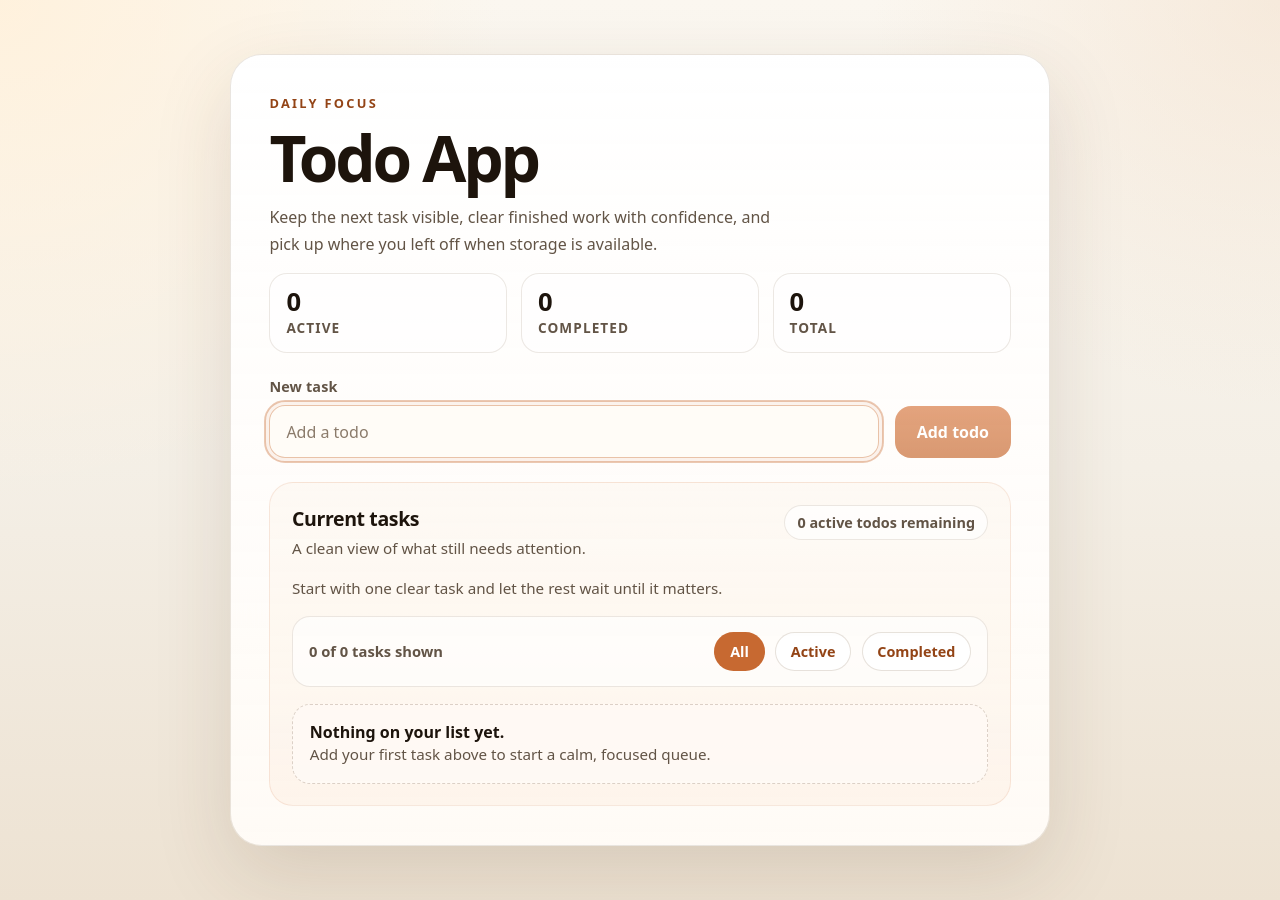
HomePage › keeps the composer focused after keyboard submission
Type "Buy milk" into the field labelled "New task" at (574,432), box [269,405,879,458]
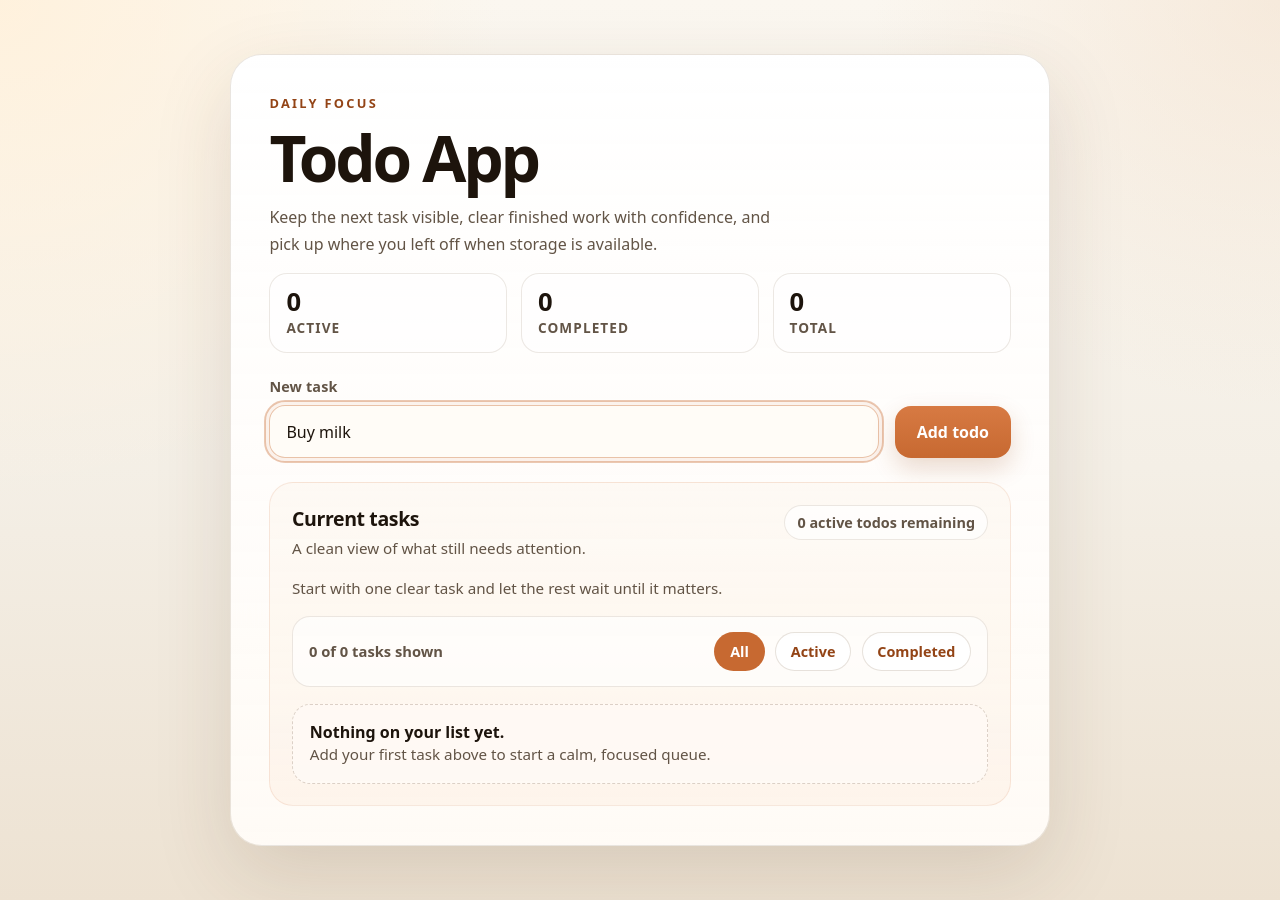
Submit the form "New task", box [269,377,1011,458]
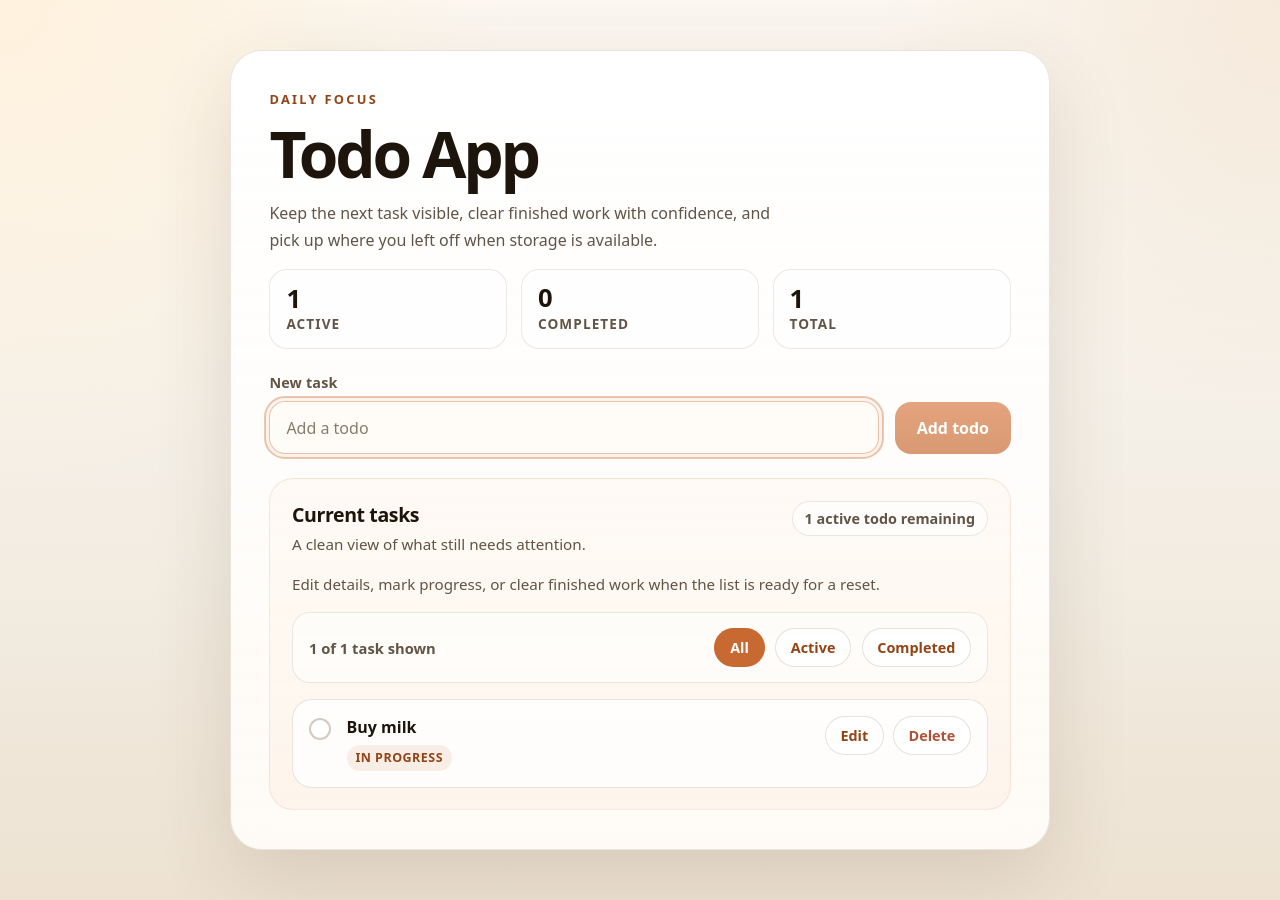
Expected: the field labelled "New task" is empty, [269,401,879,454]
Expected: the text "Buy milk" is shown, [347,716,416,738]
